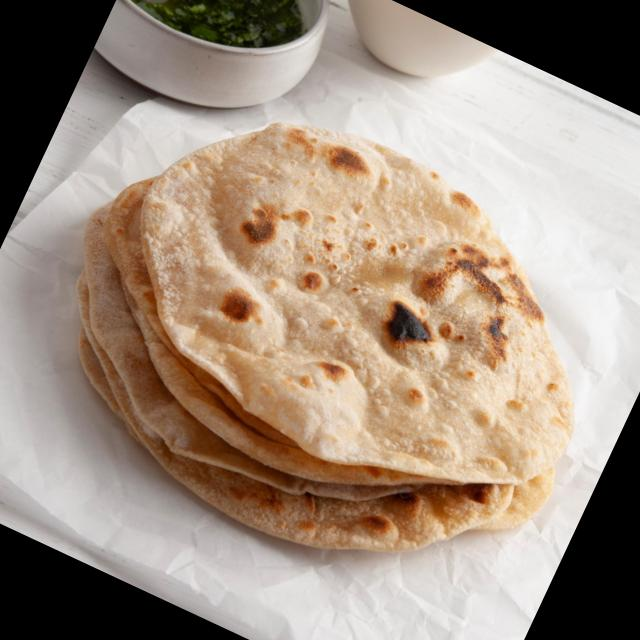roti: (71, 120, 582, 553)
